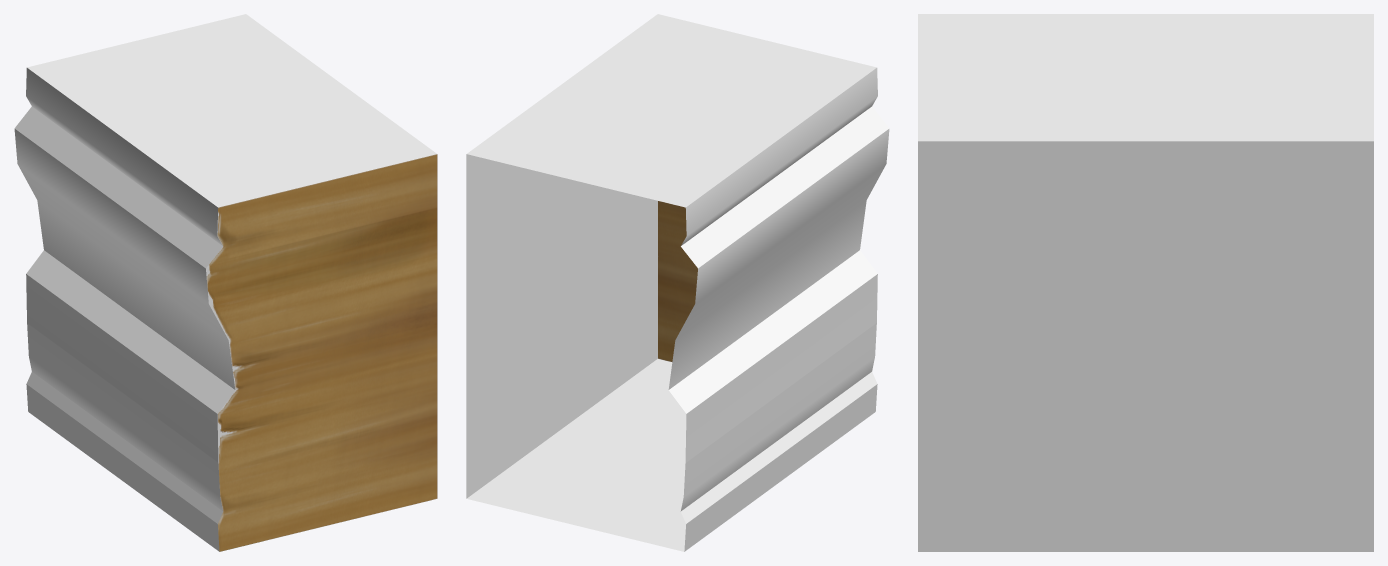
Rendered from Roca_01.fbx.
The picture shows the model from 3 angles, left to right: view 1: azimuth 30°, elevation 25°; view 2: azimuth 150°, elevation 25°; view 3: azimuth 270°, elevation 25°; orthographic projection. The views are drawn at different scales.
Visible parts, largest first — view 1: Roca_01; view 2: Roca_01; view 3: Roca_01.
Boxes of the visible parts, x1,y1,x2,y2 form: Roca_01: (14, 14, 437, 551); Roca_01: (466, 14, 889, 551); Roca_01: (918, 14, 1373, 551).
Size of the model in its own units: 5.47 by 7.78 by 7.83.
